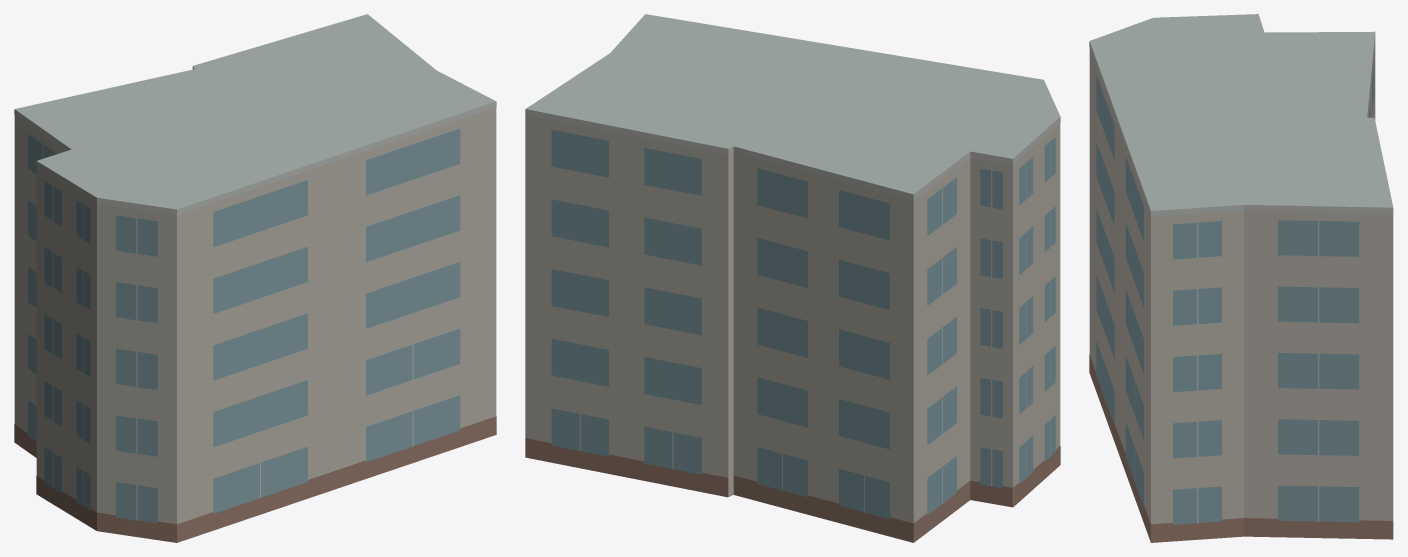
Rendered from survey-upis-33032352.glb.
The picture shows the model from 3 angles, left to right: view 1: azimuth 30°, elevation 25°; view 2: azimuth 150°, elevation 25°; view 3: azimuth 270°, elevation 25°; orthographic projection. The views are drawn at different scales.
Visible parts, largest first — view 1: survey-upis-33032352.tmp; view 2: survey-upis-33032352.tmp; view 3: survey-upis-33032352.tmp.
Boxes of the visible parts, <box> form: survey-upis-33032352.tmp: <box>14,14,496,542</box>; survey-upis-33032352.tmp: <box>525,14,1060,542</box>; survey-upis-33032352.tmp: <box>1089,14,1393,542</box>.
Size of the model in its own units: 17.91 by 14.05 by 11.67.
